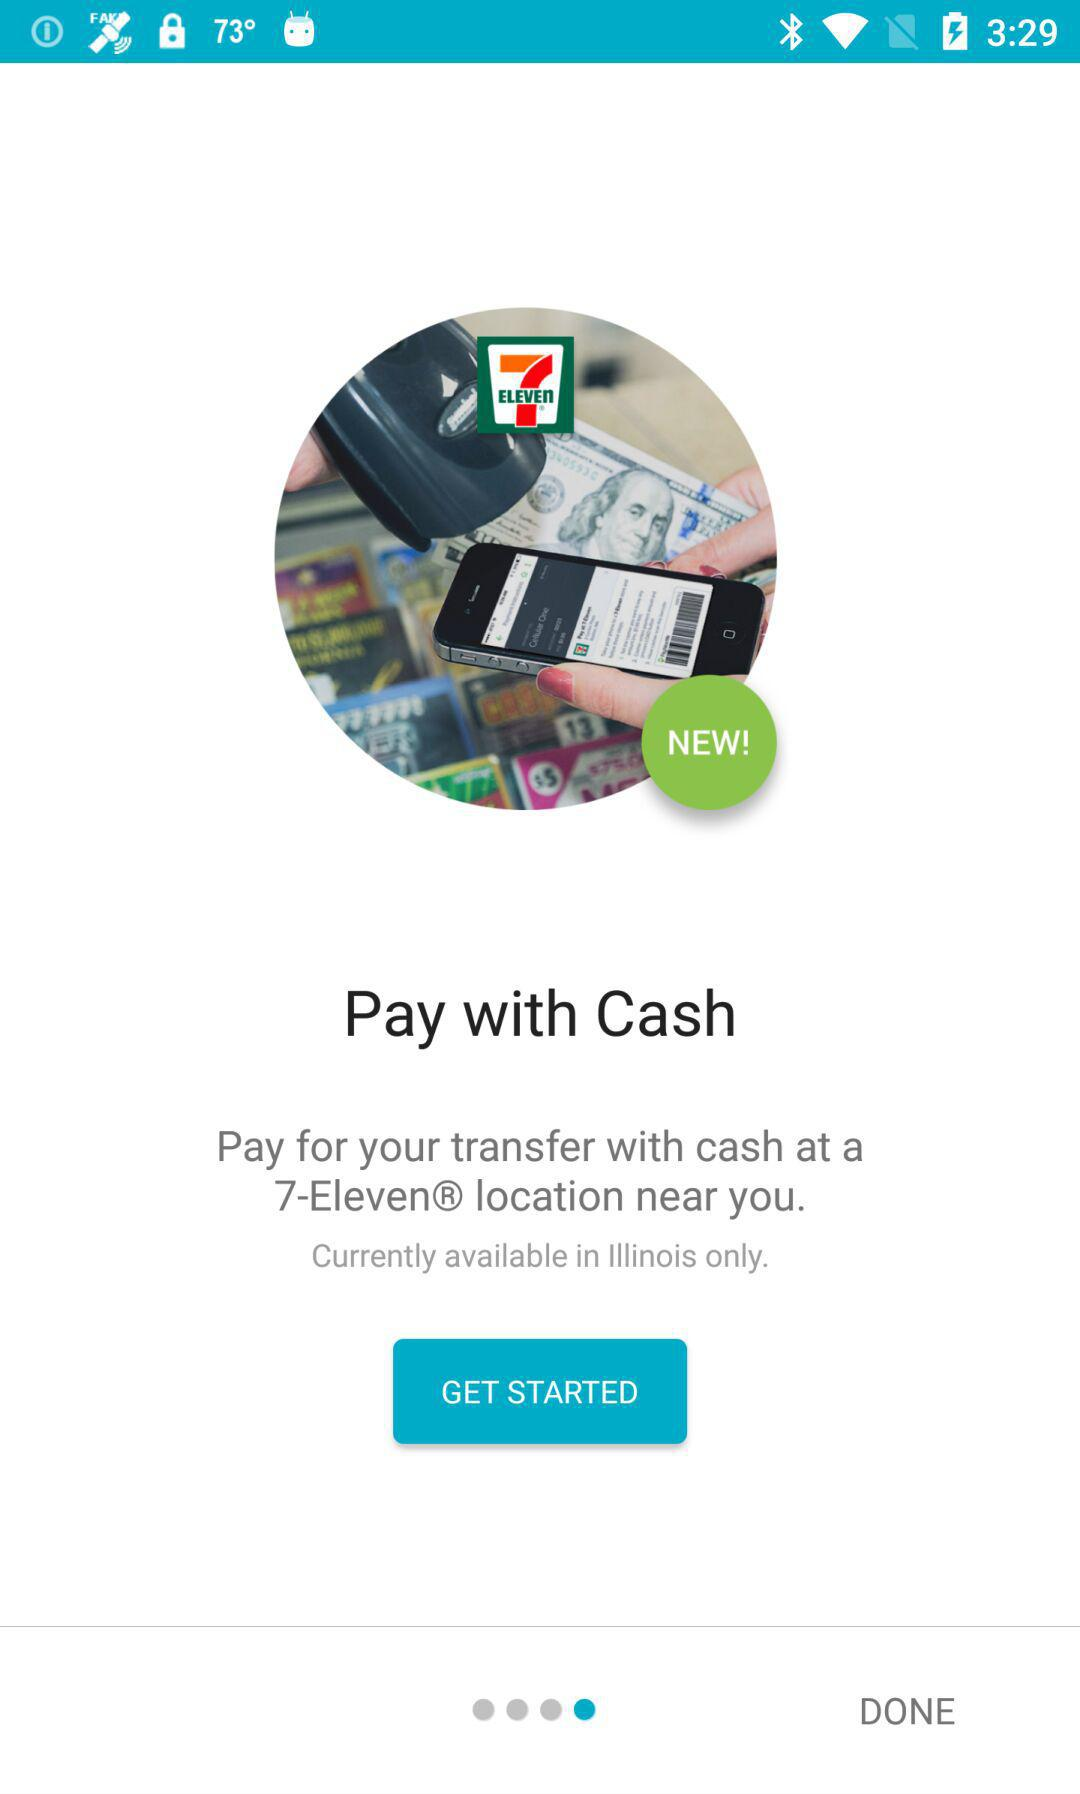Image: (274, 308, 779, 812)
PageIndicator: (471, 1697, 597, 1722)
Text: (219, 1128, 863, 1221), (348, 987, 735, 1051), (313, 1240, 767, 1276), (861, 1697, 956, 1726)
TextButton: (393, 1338, 688, 1445)
UpperTaskBar: (1, 1, 1080, 64)
